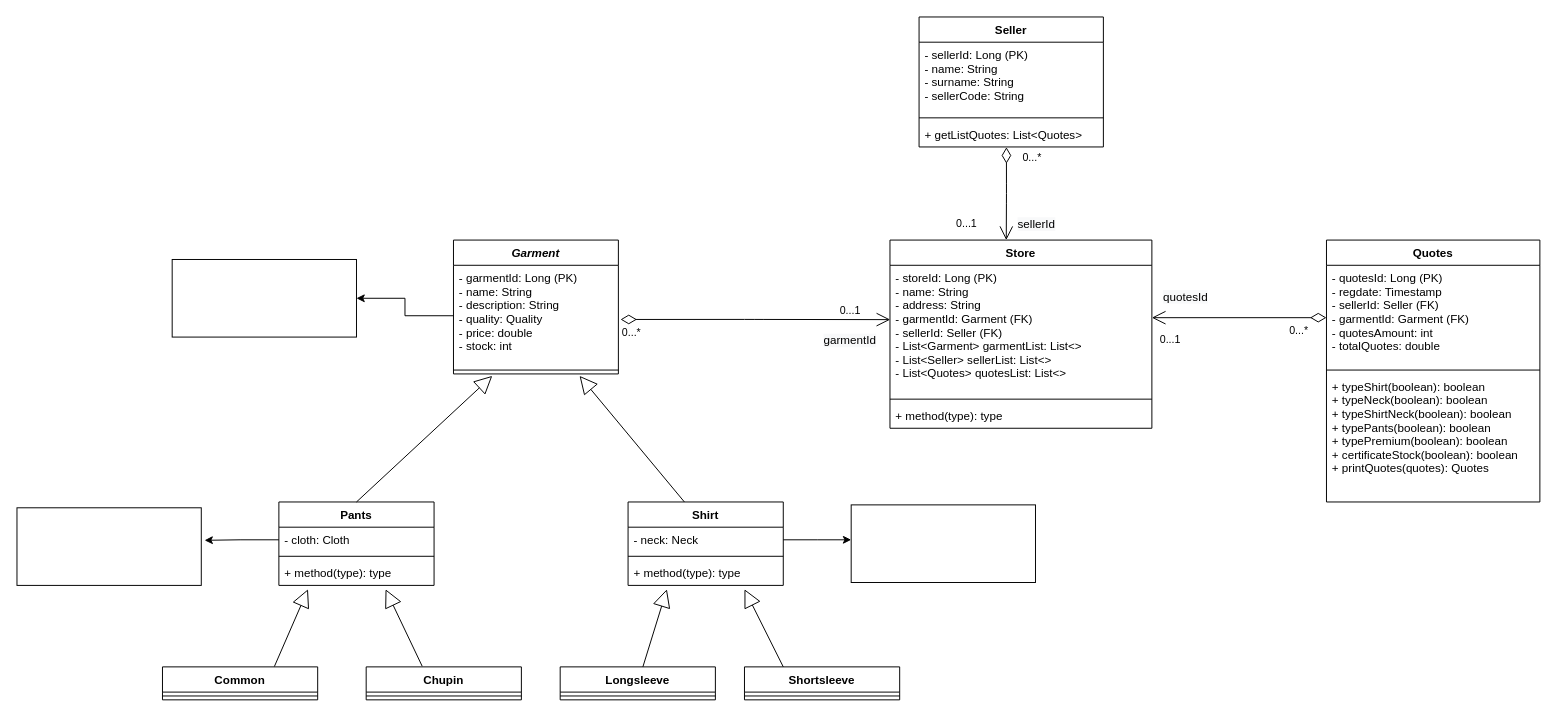
Image size: 1557x717. Some labels were removed from this diagram. Each missing label, with the centre of its shape:
"<<Enum>> Cloth + COMMON" goes at [108,546].
"<<Enum>> Neck + COMMON + MAO" goes at [942,543].
"<<Enum>> Quality + STANDARD + PREMIUM" goes at [263,298].
